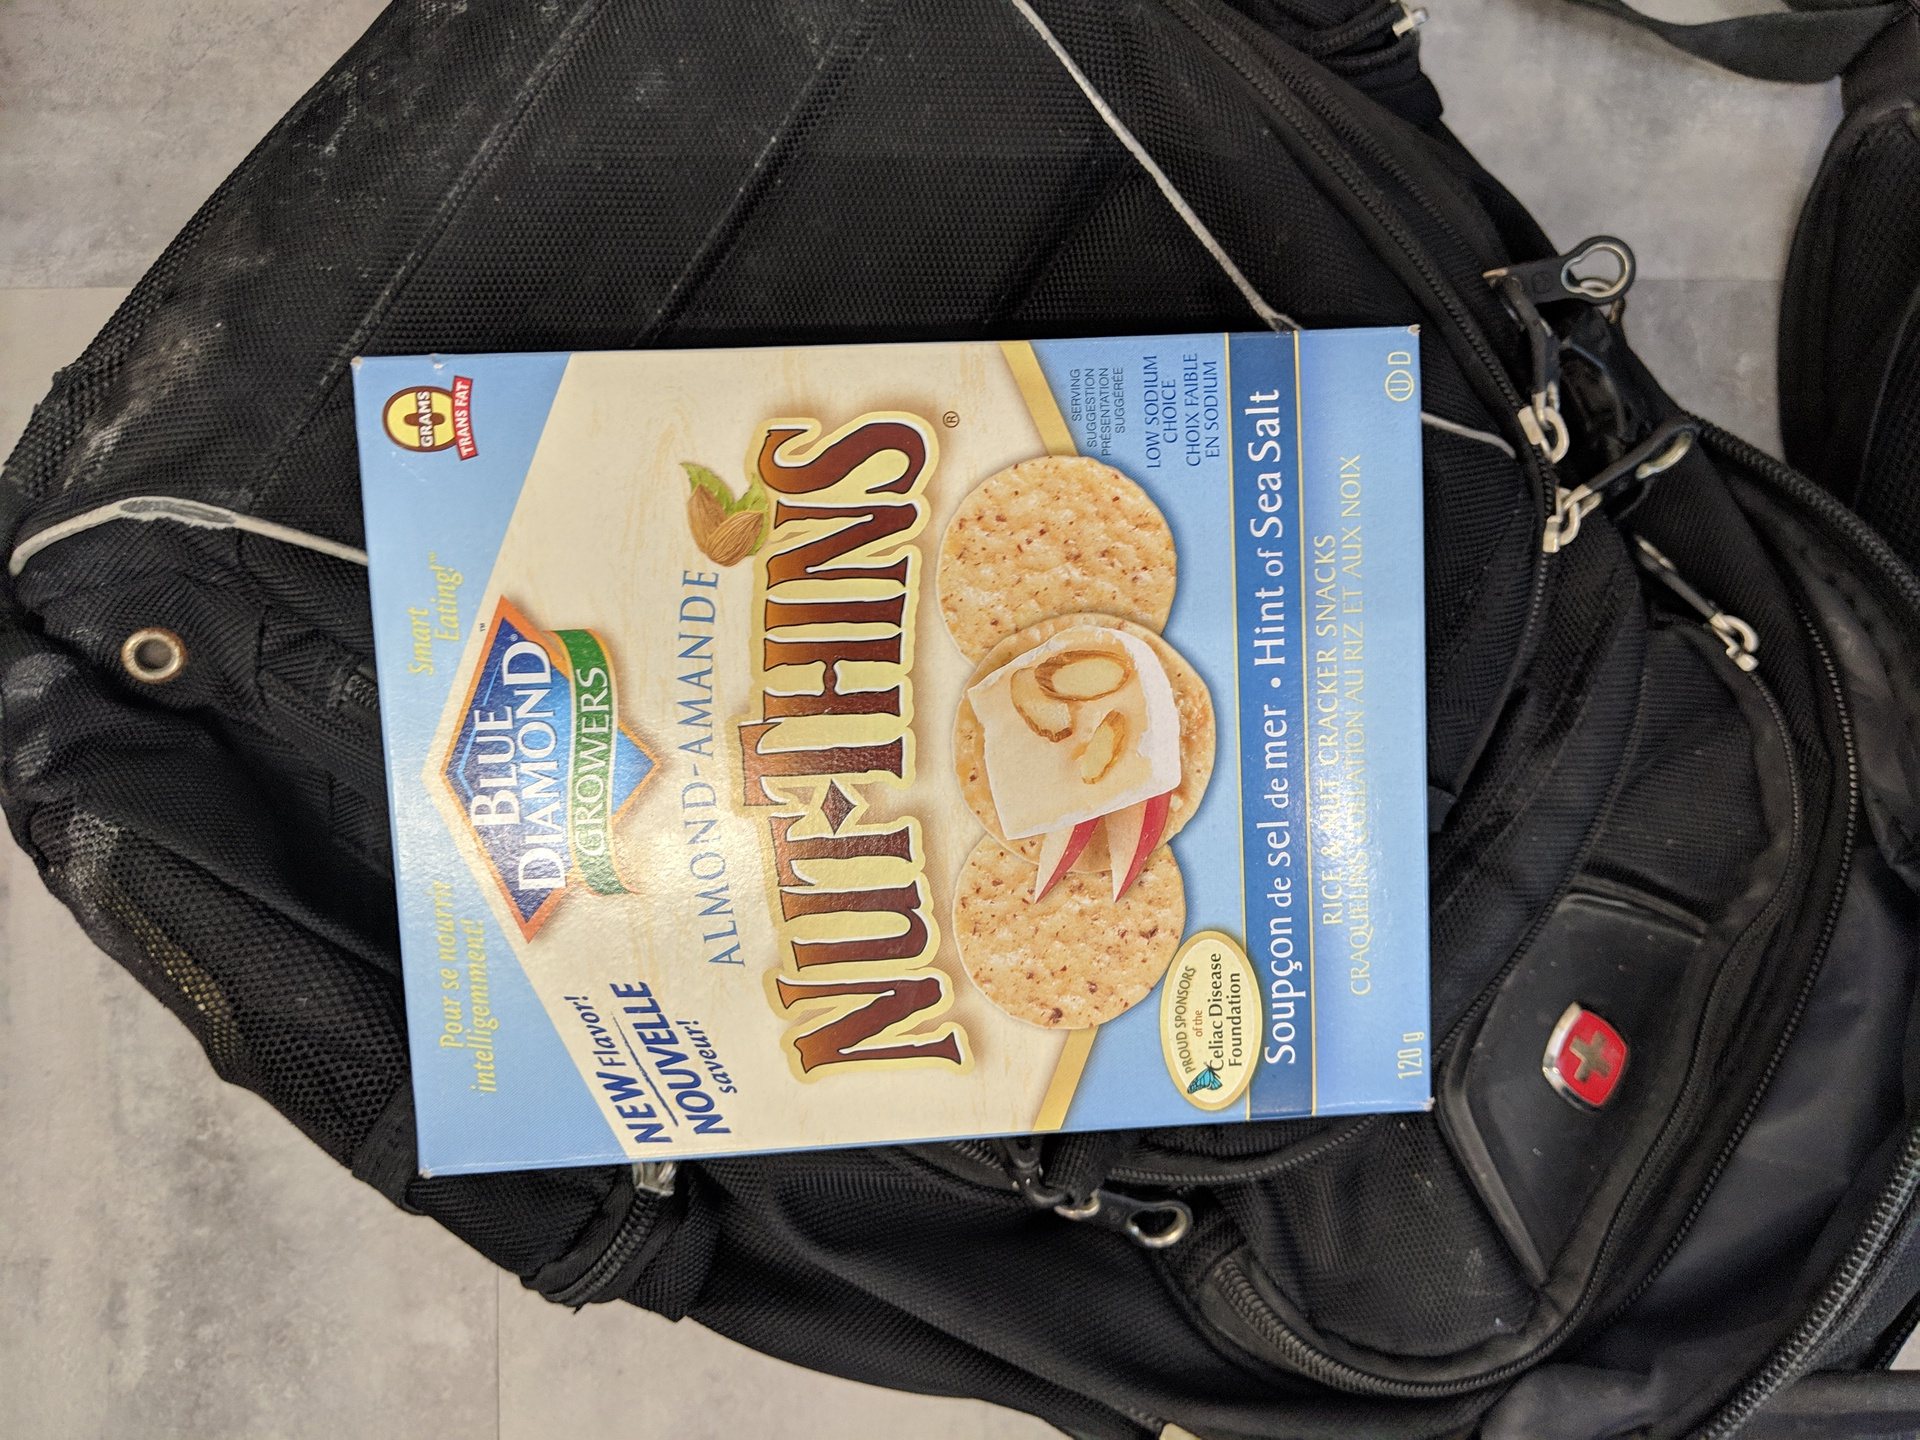blue_diamond_nut_thins_almond_seasalt: (419, 363, 1411, 1106)
